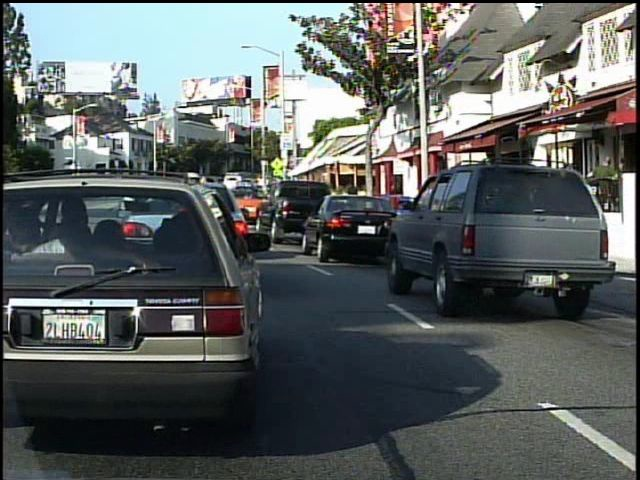person: (588, 151, 622, 237)
